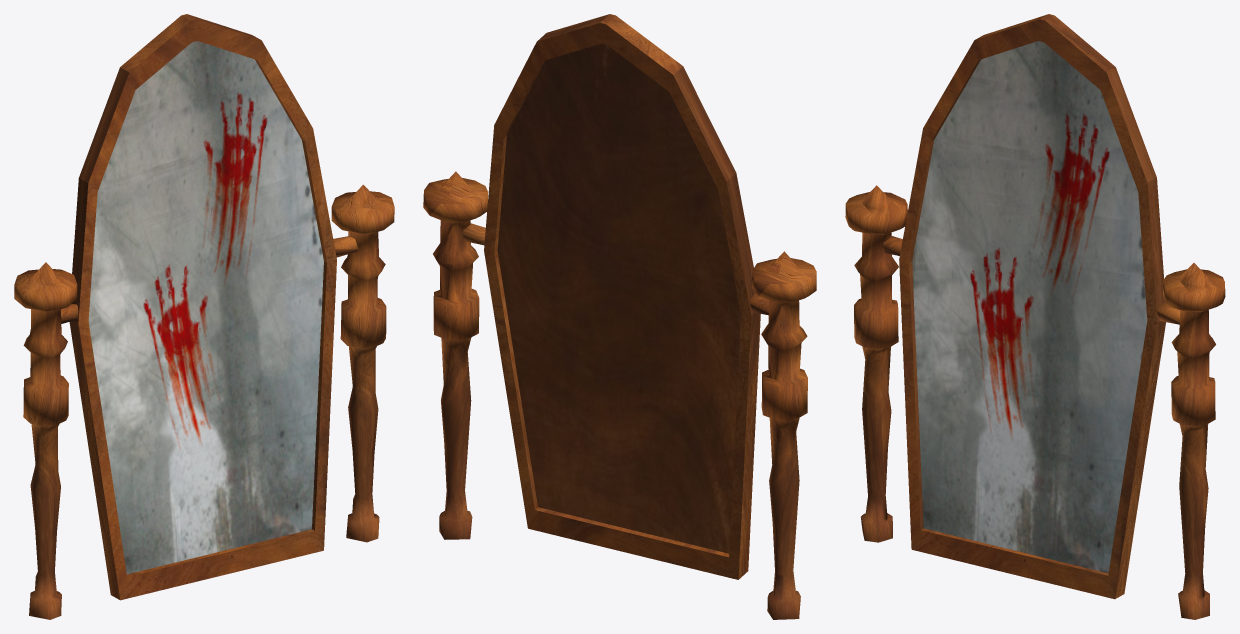
Rendered from task-item_mirror.fbx.
The picture shows the model from 3 angles, left to right: view 1: azimuth 30°, elevation 25°; view 2: azimuth 150°, elevation 25°; view 3: azimuth 330°, elevation 25°; orthographic projection. The views are drawn at different scales.
Parts seen in each view (by area): view 1: Cube.002, Circle, Circle.001; view 2: Cube.002, Circle, Circle.001; view 3: Cube.002, Circle.001, Circle.
Boxes of the visible parts, left/top/right/bottom form: Cube.002: left=69, top=14, right=336, bottom=600; Circle: left=14, top=262, right=78, bottom=619; Circle.001: left=331, top=184, right=394, bottom=542; Cube.002: left=484, top=14, right=760, bottom=579; Circle: left=750, top=251, right=816, bottom=619; Circle.001: left=423, top=171, right=487, bottom=539; Cube.002: left=899, top=14, right=1165, bottom=599; Circle.001: left=1154, top=263, right=1225, bottom=619; Circle: left=845, top=185, right=907, bottom=542.
Size of the model in its own units: 67.21 by 94.71 by 11.99.
